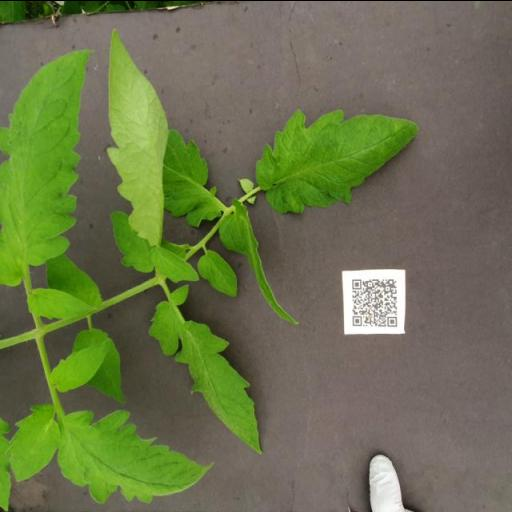Healthy: (0, 50, 94, 285), (148, 283, 263, 455), (256, 107, 420, 213), (58, 410, 214, 504), (4, 402, 60, 482), (51, 336, 112, 390), (197, 247, 240, 296), (151, 244, 201, 284)
